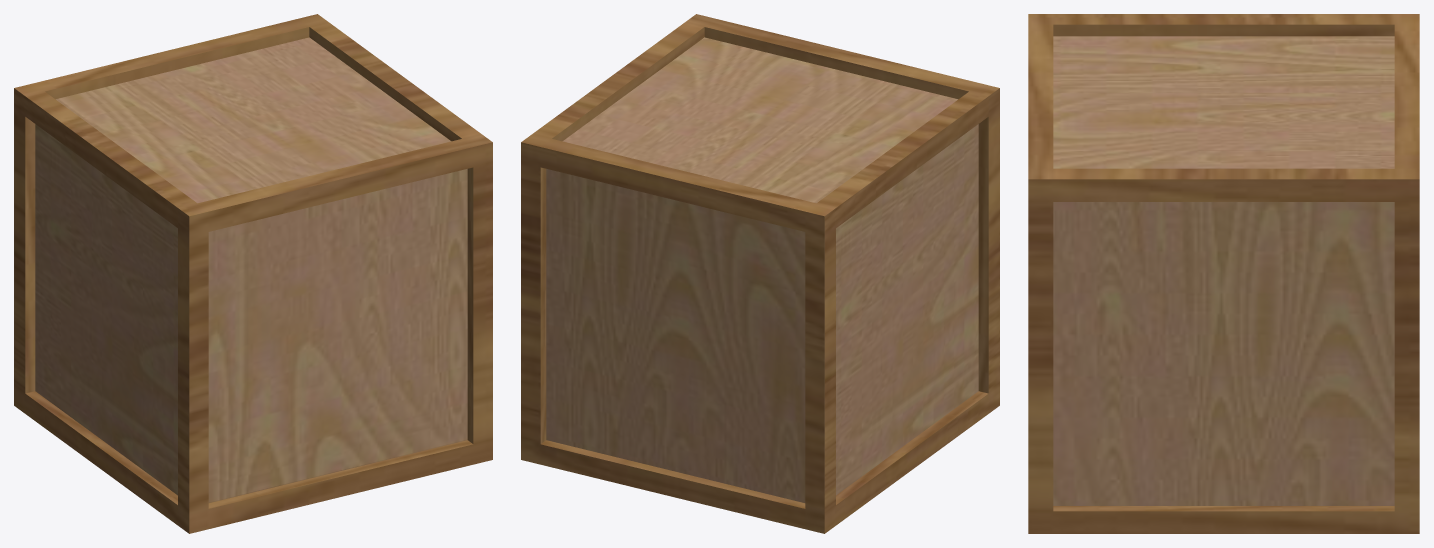
File: Crate.glb
3 renders of one model, left to right at view 1: azimuth 30°, elevation 25°; view 2: azimuth 150°, elevation 25°; view 3: azimuth 270°, elevation 25°, orthographic. The views are drawn at different scales.
Parts seen in each view (by area): view 1: Crate; view 2: Crate; view 3: Crate.
Boxes of the visible parts, x1,y1,x2,y2 form: Crate: (14, 14, 492, 533); Crate: (521, 14, 999, 533); Crate: (1028, 14, 1419, 533).
Size of the model in its own units: 1 by 1 by 1.
1 material, 1 textured.
